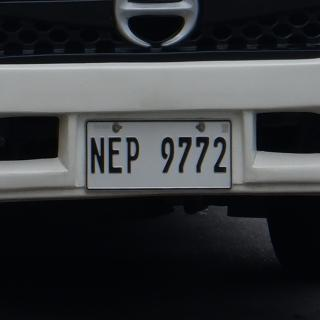license: (87, 122, 232, 190)
